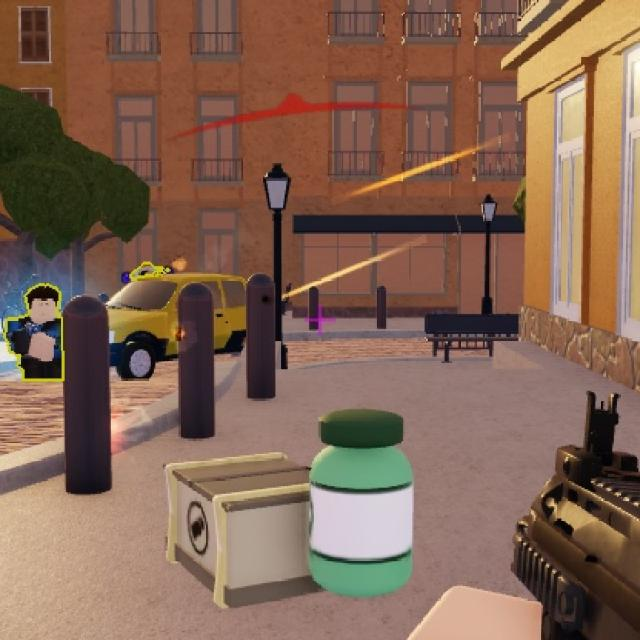player: (9, 282, 65, 374)
